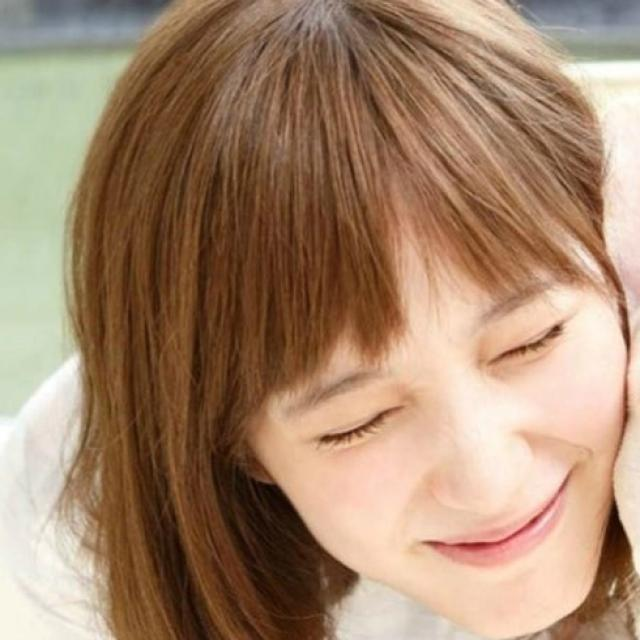close: (456, 259, 594, 378), (271, 359, 425, 464)
